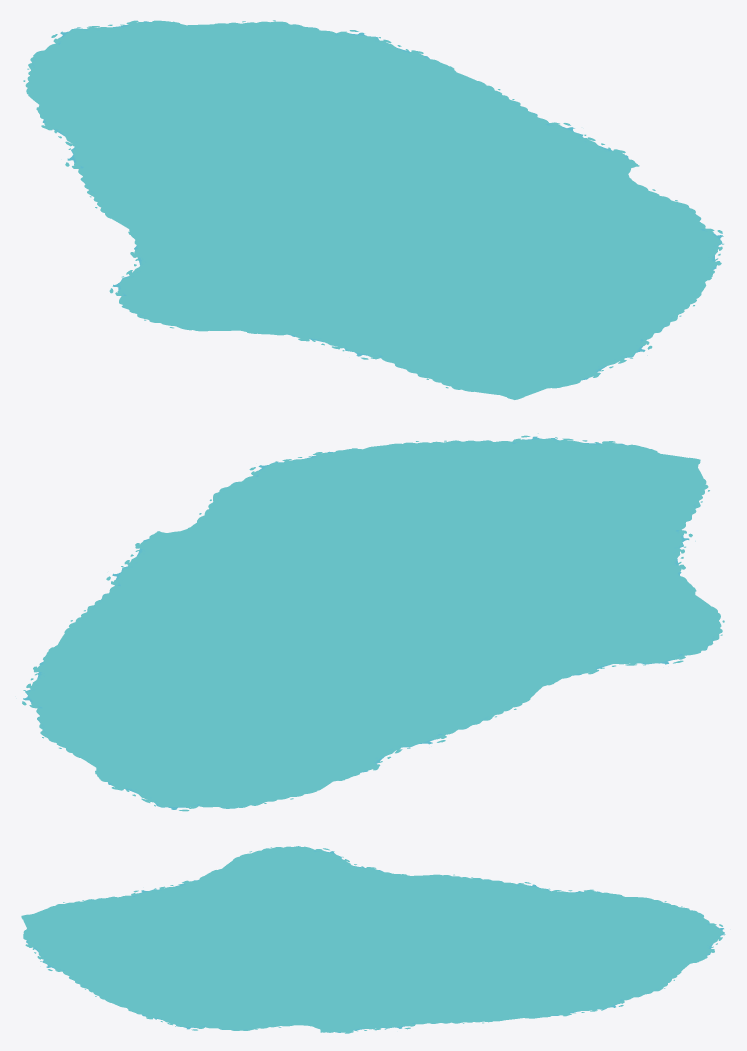
File: Mesh_Home_BH_Sea_02.fbx
3 views of the same model, one above another, from view 1: azimuth 30°, elevation 25°; view 2: azimuth 150°, elevation 25°; view 3: azimuth 270°, elevation 25° (orthographic). The views are drawn at different scales.
Visible parts, largest first — view 1: Mesh_Home_BH_Sea_02; view 2: Mesh_Home_BH_Sea_02; view 3: Mesh_Home_BH_Sea_02.
Part boxes in pixels (box(x1,y1,x2,y2)): Mesh_Home_BH_Sea_02: box(23, 20, 723, 399); Mesh_Home_BH_Sea_02: box(22, 433, 724, 811); Mesh_Home_BH_Sea_02: box(21, 846, 725, 1033).
Bounding box in the file's own units: 5925 × 0.000244 × 9259.
1 material, 1 textured.
